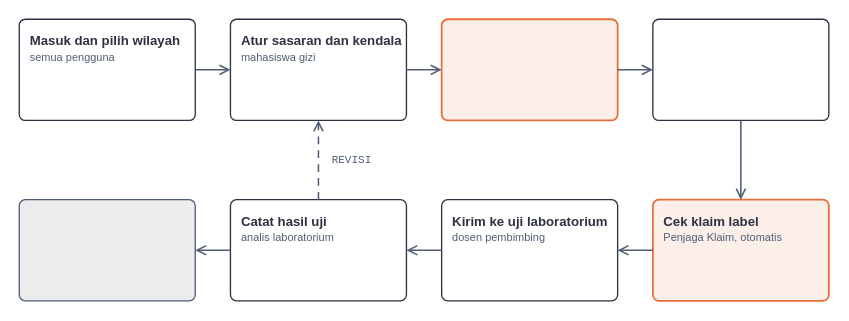
Image size: 849x321. Some labels were removed from this diagram. Here are the shapes that lost their labels. From the top down, the centre of each, then its label:
(529,69): Jalankan Mesin Racik mahasiswa teknologi pangan
(740,69): Tinjau komposisi dan biaya mahasiswa teknologi pangan
(106,249): Setujui dan ekspor lembar dosen pembimbing
